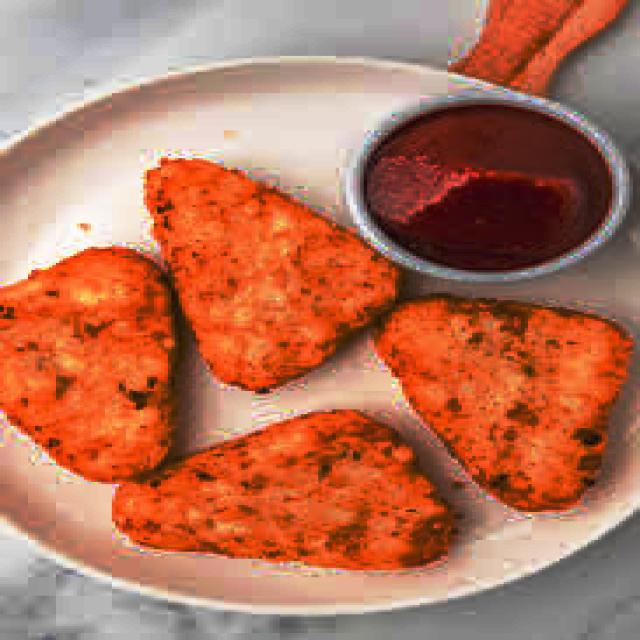Hashbrown: (148, 159, 399, 390), (113, 408, 458, 570), (375, 295, 630, 514), (0, 249, 182, 479)
ketchup: (367, 107, 609, 269)
